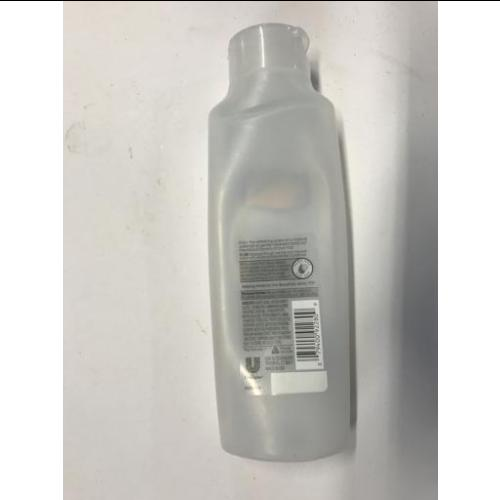plastic: (219, 19, 352, 458)
